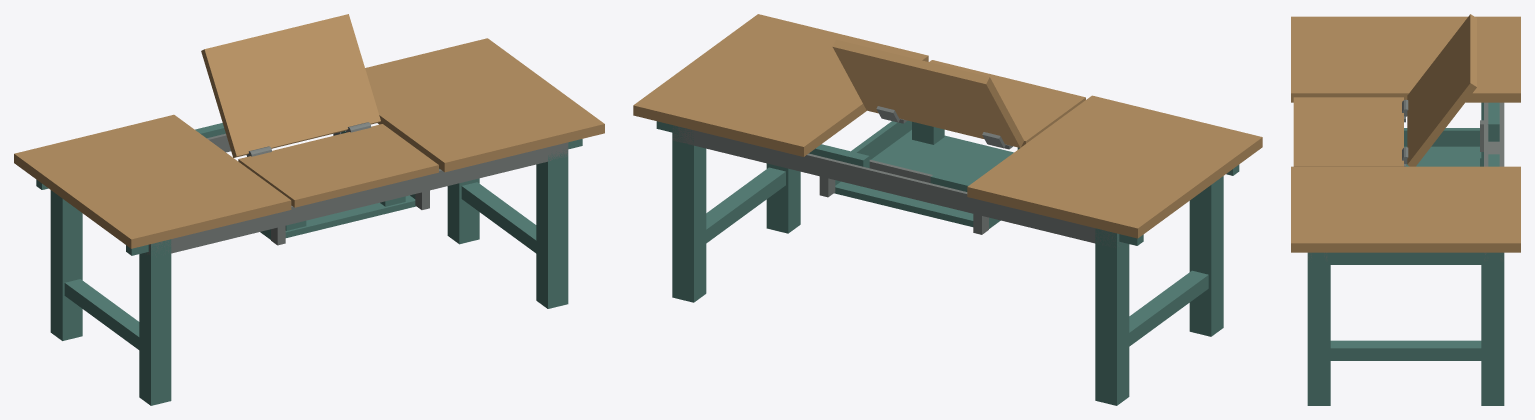
The picture shows the model from 3 angles, left to right: view 1: azimuth 30°, elevation 25°; view 2: azimuth 150°, elevation 25°; view 3: azimuth 270°, elevation 25°; orthographic projection. The views are drawn at different scales.
Parts seen in each view (by area): view 1: LeftSeparatedWholeMainDiningTop, RightSeparatedWholeMainDiningTop, ButterflyRearWholeHalfLeafRaised, ButterflyFrontWholeHalfLeaf, FrontWholeOpenSlideRail, LeftFrontWholeGroundLeg, RightFrontWholeGroundLeg, LeftRearWholeGroundLeg, RightLowerEndTie, LeftLowerEndTie, RightRearWholeGroundLeg, WholeCentralStorageTrayFloor; view 2: LeftSeparatedWholeMainDiningTop, RightSeparatedWholeMainDiningTop, ButterflyRearWholeHalfLeafRaised, RearWholeOpenSlideRail, LeftRearWholeGroundLeg, WholeCentralStorageTrayFloor, RightRearWholeGroundLeg, LeftFrontWholeGroundLeg, ButterflyFrontWholeHalfLeaf, RightLowerEndTie, LeftLowerEndTie, RightFrontWholeGroundLeg (+4 smaller); view 3: RightSeparatedWholeMainDiningTop, LeftSeparatedWholeMainDiningTop, ButterflyFrontWholeHalfLeaf, ButterflyRearWholeHalfLeafRaised, RightFrontWholeGroundLeg, RightRearWholeGroundLeg, RightLowerEndTie, RightFullEndApron, WholeCentralStorageTrayFloor, LeftStorageBayEndWall, RearWholeOpenSlideRail, RearLeftFixedSlideTongue (+1 smaller).
Part boxes in pixels (<box>): LeftSeparatedWholeMainDiningTop: <box>14,114,291,248</box>; RightSeparatedWholeMainDiningTop: <box>365,38,604,172</box>; ButterflyRearWholeHalfLeafRaised: <box>201,14,380,157</box>; ButterflyFrontWholeHalfLeaf: <box>238,124,438,207</box>; FrontWholeOpenSlideRail: <box>145,142,568,256</box>; LeftFrontWholeGroundLeg: <box>139,239,171,405</box>; RightFrontWholeGroundLeg: <box>536,150,568,308</box>; LeftRearWholeGroundLeg: <box>50,190,82,340</box>; RightLowerEndTie: <box>461,182,536,253</box>; LeftLowerEndTie: <box>64,279,139,349</box>; RightRearWholeGroundLeg: <box>447,178,479,244</box>; WholeCentralStorageTrayFloor: <box>260,195,416,239</box>; LeftSeparatedWholeMainDiningTop: <box>967,95,1262,238</box>; RightSeparatedWholeMainDiningTop: <box>633,14,928,156</box>; ButterflyRearWholeHalfLeafRaised: <box>832,39,1023,147</box>; RearWholeOpenSlideRail: <box>672,126,1122,247</box>; LeftRearWholeGroundLeg: <box>1095,228,1129,405</box>; WholeCentralStorageTrayFloor: <box>834,130,1013,228</box>; RightRearWholeGroundLeg: <box>672,125,706,302</box>; LeftFrontWholeGroundLeg: <box>1189,176,1223,336</box>; ButterflyFrontWholeHalfLeaf: <box>929,60,1085,147</box>; RightLowerEndTie: <box>706,167,785,243</box>; LeftLowerEndTie: <box>1129,270,1208,346</box>; RightFrontWholeGroundLeg: <box>766,163,800,233</box>; RightSeparatedWholeMainDiningTop: <box>1291,166,1520,252</box>; LeftSeparatedWholeMainDiningTop: <box>1291,16,1520,102</box>; ButterflyFrontWholeHalfLeaf: <box>1293,97,1403,166</box>; ButterflyRearWholeHalfLeafRaised: <box>1407,14,1476,166</box>; RightFrontWholeGroundLeg: <box>1307,252,1330,405</box>; RightRearWholeGroundLeg: <box>1481,252,1504,405</box>; RightLowerEndTie: <box>1330,340,1481,360</box>; RightFullEndApron: <box>1307,252,1504,264</box>; WholeCentralStorageTrayFloor: <box>1404,146,1479,166</box>; LeftStorageBayEndWall: <box>1404,128,1479,146</box>; RearWholeOpenSlideRail: <box>1484,102,1504,260</box>; RearLeftFixedSlideTongue: <box>1488,102,1499,141</box>.
Size of the model in its own units: 2.1 by 1.11 by 0.9.
